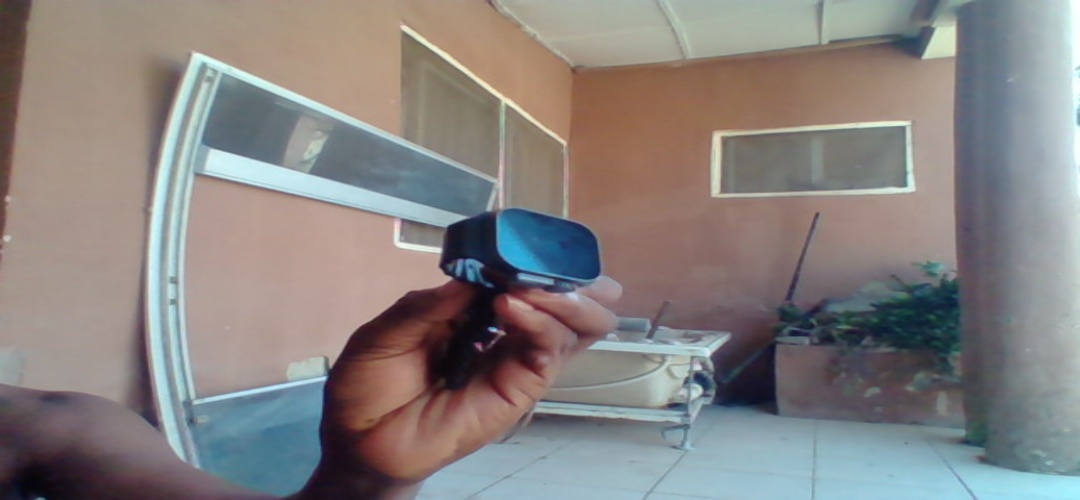smart_watch: (444, 208, 604, 299)
